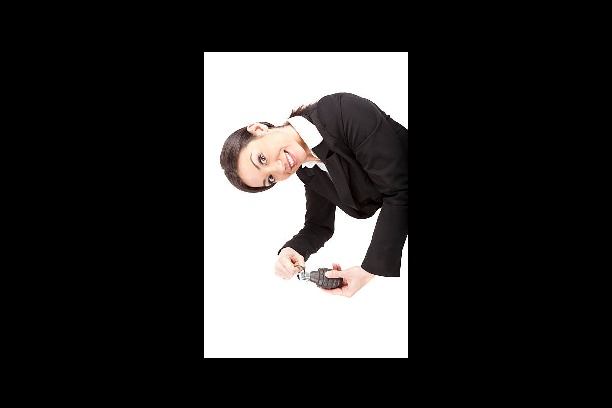e1: (293, 259, 346, 294)
